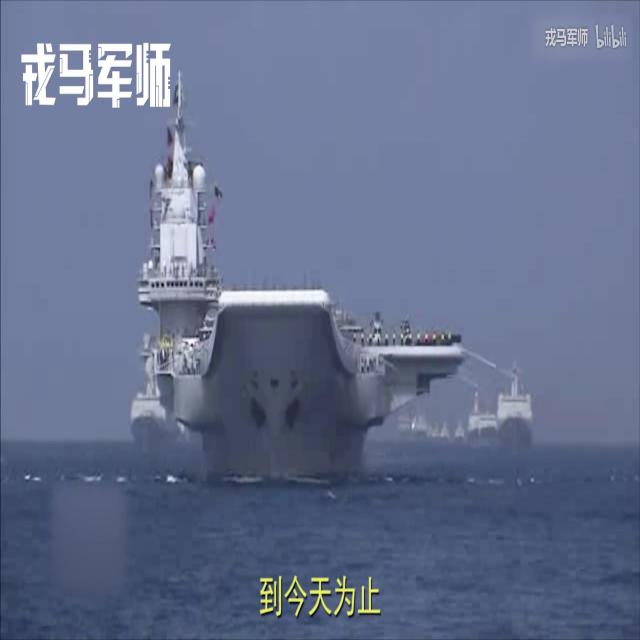navalvessels: (120, 79, 466, 478), (494, 366, 536, 452), (463, 378, 500, 452), (395, 411, 413, 445), (410, 410, 428, 440), (440, 416, 453, 445), (454, 413, 464, 443), (432, 417, 442, 442)
